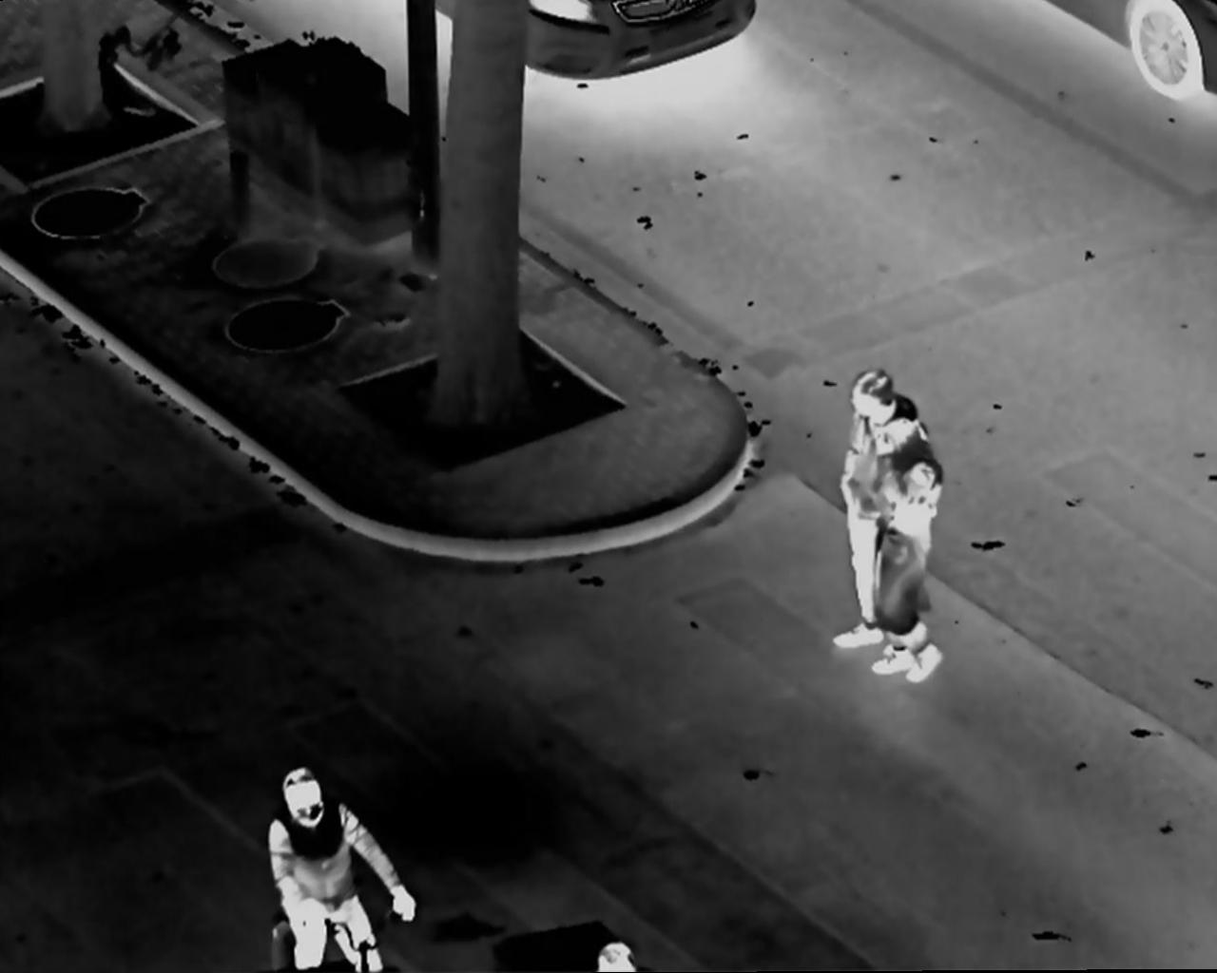person: (254, 758, 425, 966), (836, 366, 932, 661), (863, 398, 945, 689)
